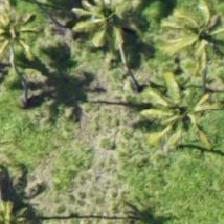coconut_tree: (129, 51, 219, 141), (143, 0, 223, 76), (61, 0, 151, 57)
